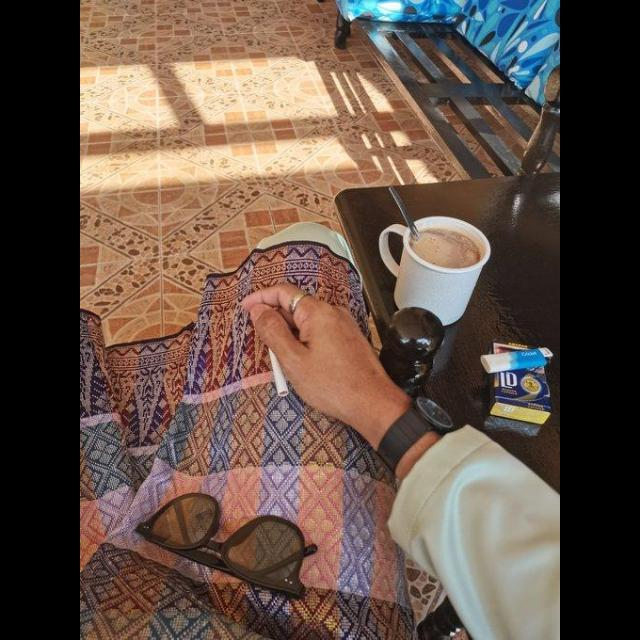rokok: (268, 348, 292, 398)
